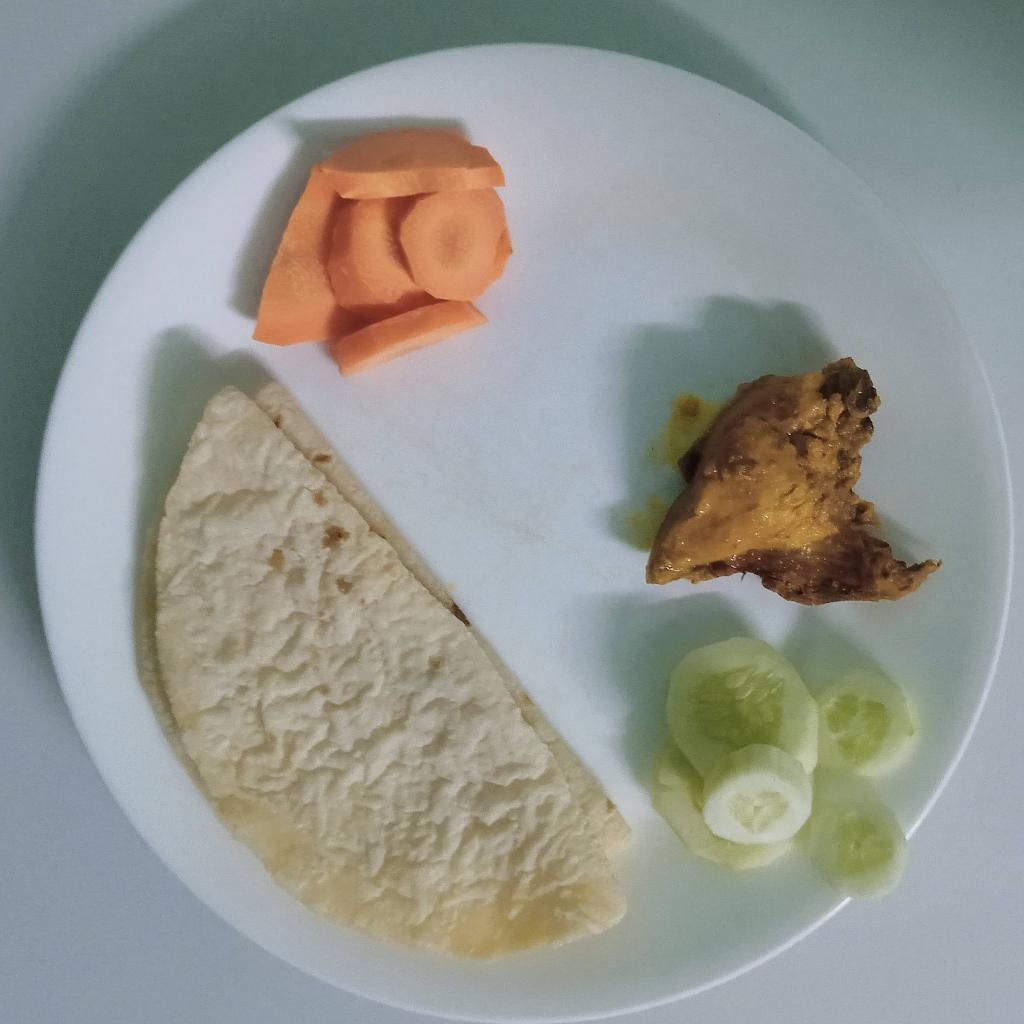carrot: (248, 130, 517, 382)
chicken: (641, 350, 947, 610)
cucumber: (656, 639, 917, 901)
ruti: (133, 378, 636, 964)
